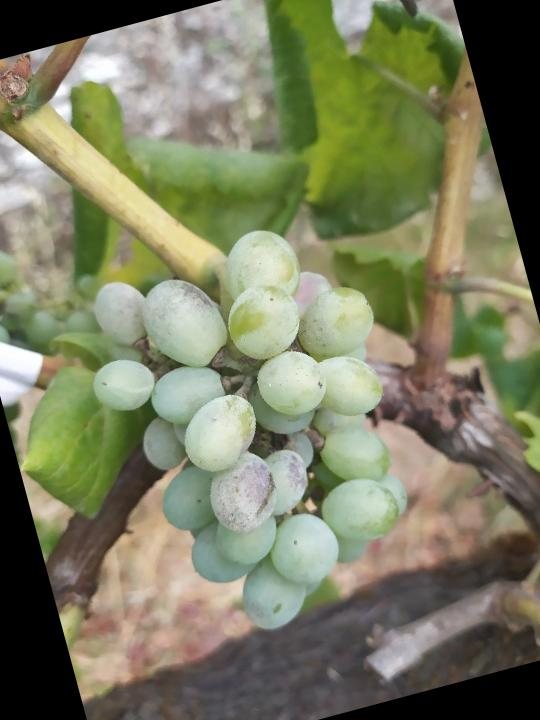grape: (60, 200, 452, 664)
